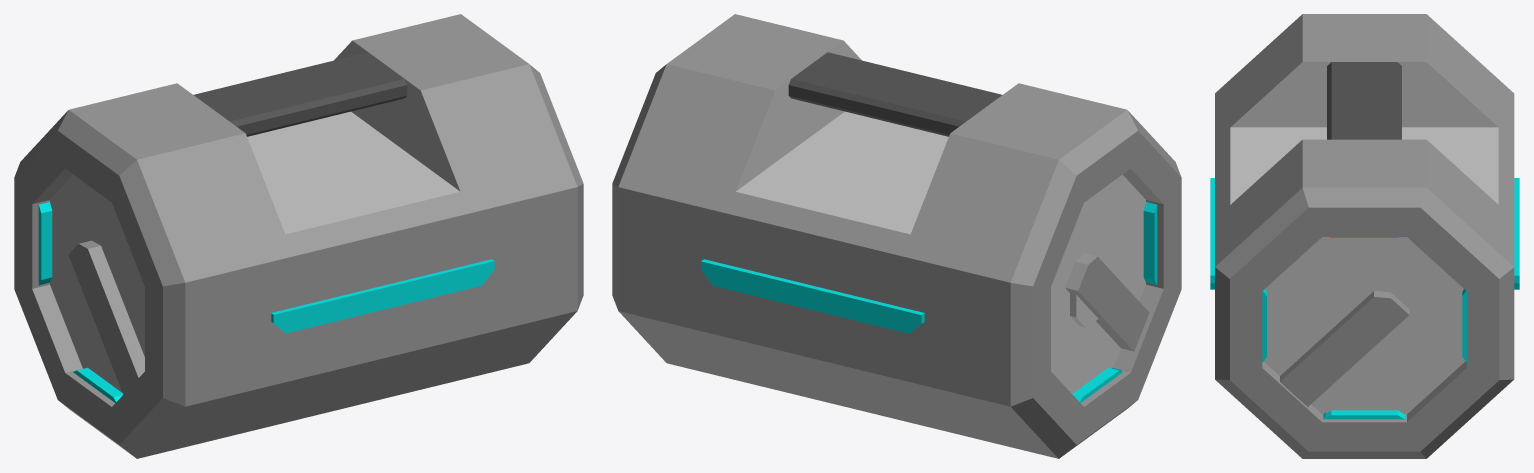
Rendered from SM_GAT01_Battery.fbx.
3 views of the same model, side by side, from view 1: azimuth 30°, elevation 25°; view 2: azimuth 150°, elevation 25°; view 3: azimuth 270°, elevation 25° (orthographic). The views are drawn at different scales.
Parts seen in each view (by area): view 1: SM_GAT01_Battery; view 2: SM_GAT01_Battery; view 3: SM_GAT01_Battery.
Part boxes in pixels (x1=…): SM_GAT01_Battery: x1=14, y1=14, x2=583, y2=458; SM_GAT01_Battery: x1=612, y1=14, x2=1181, y2=458; SM_GAT01_Battery: x1=1210, y1=14, x2=1519, y2=458.
Size of the model in its own units: 22.84 by 15.52 by 16.05.
